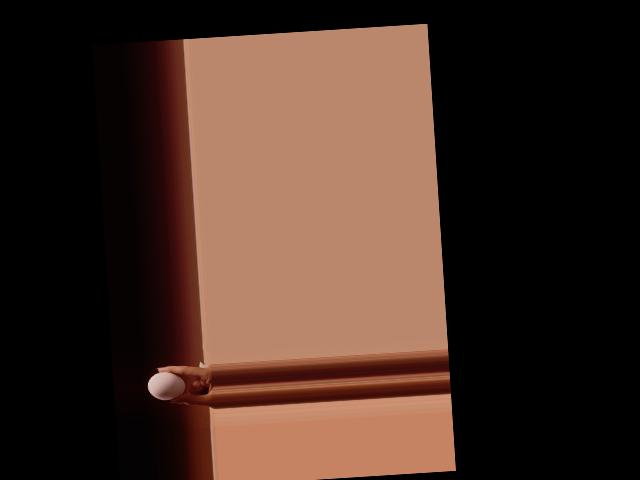egg: (147, 371, 187, 401)
